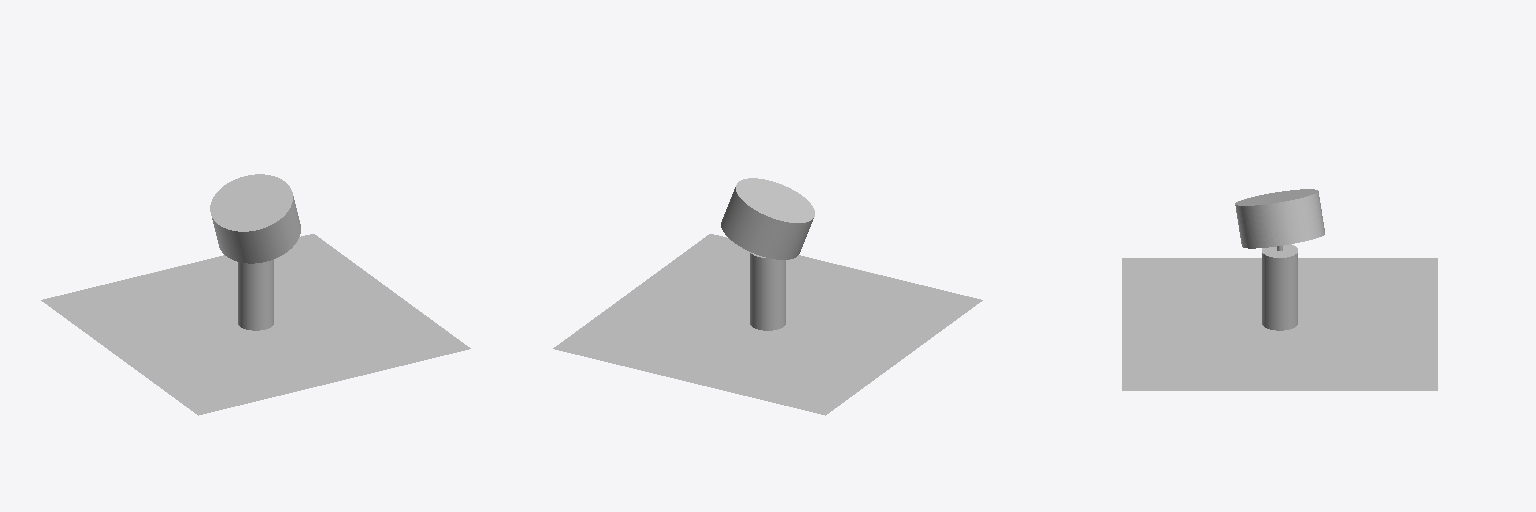
Rendered from lamp11.obj.
3 views of the same model, side by side, from view 1: azimuth 30°, elevation 25°; view 2: azimuth 150°, elevation 25°; view 3: azimuth 270°, elevation 25° (orthographic).
Parts seen in each view (by area): view 1: Plane, Cylinder.002, Cylinder; view 2: Plane, Cylinder.002, Cylinder; view 3: Plane, Cylinder.002, Cylinder, Cylinder.001.
Boxes of the visible parts, box(x1,y1,x2,y2) form: Plane: box(41, 234, 470, 415); Cylinder.002: box(210, 174, 300, 263); Cylinder: box(238, 260, 273, 330); Plane: box(553, 234, 982, 415); Cylinder.002: box(721, 178, 814, 259); Cylinder: box(750, 260, 785, 330); Plane: box(1122, 258, 1437, 390); Cylinder.002: box(1235, 189, 1324, 248); Cylinder: box(1262, 260, 1297, 330); Cylinder.001: box(1262, 244, 1297, 264).
Bounding box in the file's own units: 17.18 × 8.24 × 17.18.